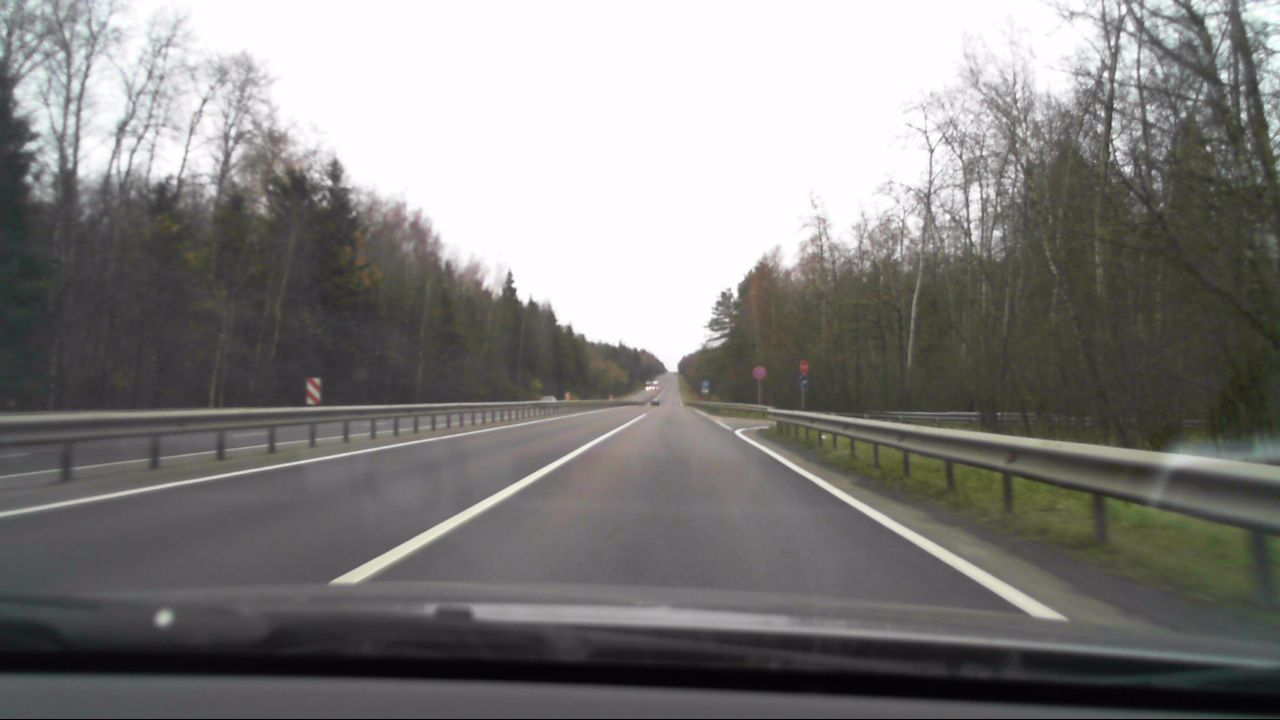No Parking: (751, 364, 768, 380)
